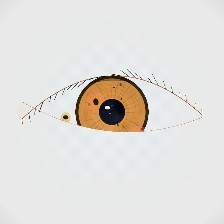foreign_body_visible: (79, 88, 113, 116)
